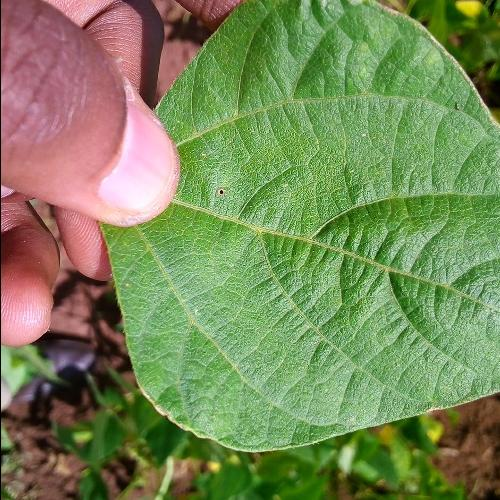mozaik: (300, 36, 437, 164)
sehat: (308, 174, 471, 398)
